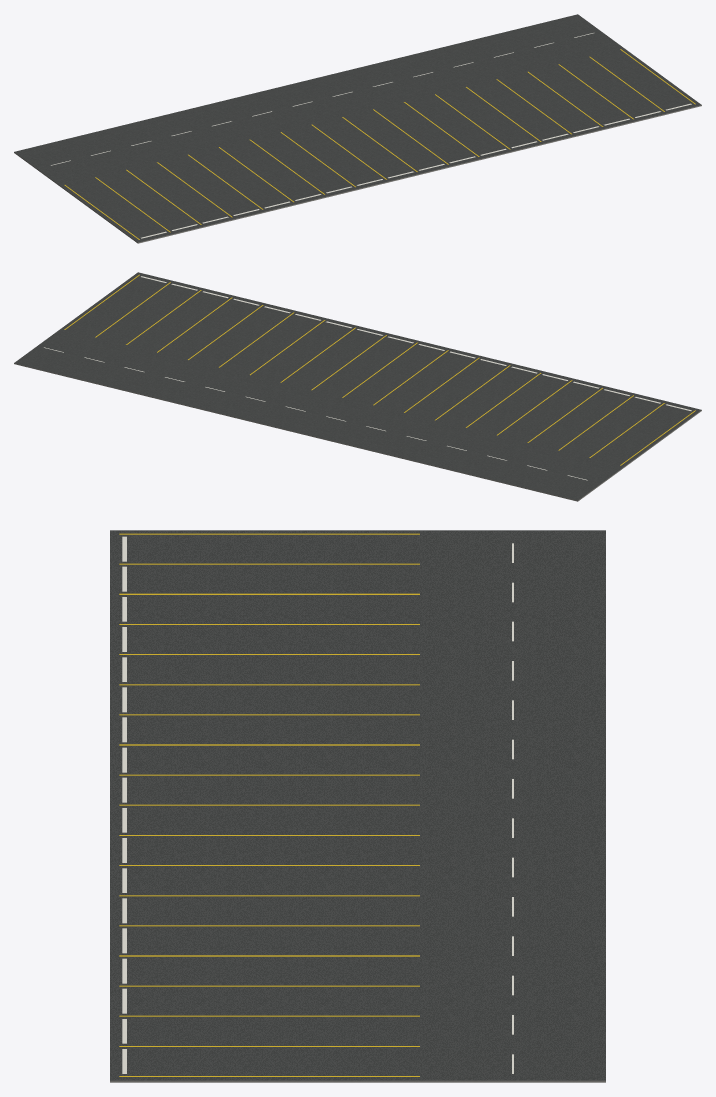
File: truck_park.glb
3 renders of one model, top to bottom at view 1: azimuth 30°, elevation 25°; view 2: azimuth 150°, elevation 25°; view 3: azimuth 270°, elevation 25°, orthographic. The views are drawn at different scales.
Visible parts, largest first — view 1: truck_park; view 2: truck_park; view 3: truck_park.
Part boxes in pixels (bbox=[...]): truck_park: bbox=[14, 14, 701, 243]; truck_park: bbox=[14, 272, 701, 501]; truck_park: bbox=[110, 530, 605, 1082].
Bounding box in the file's own units: 84 × 0.16 × 32.
4 materials, 4 textured.
